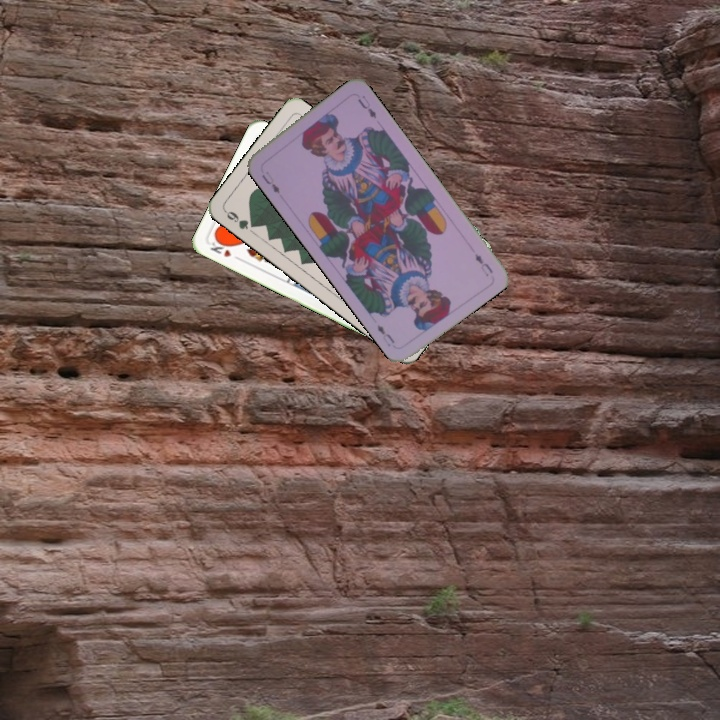EU: (471, 249, 496, 279), (257, 167, 282, 196)
G9: (221, 207, 260, 232)
HK: (206, 235, 244, 264)
